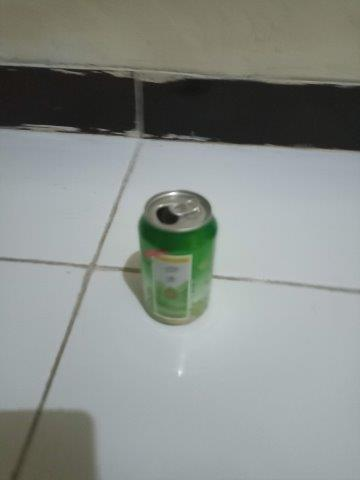kaleng: (138, 190, 218, 325)
